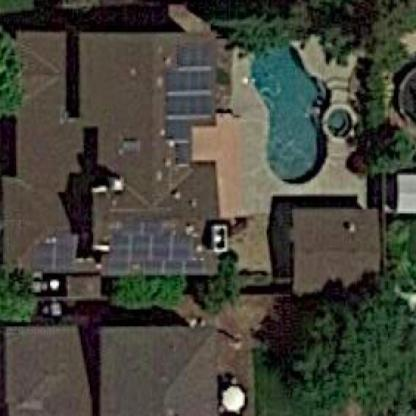solar_panel: (157, 34, 219, 163), (104, 211, 211, 285), (26, 224, 85, 276)
swimming_pool: (243, 33, 339, 194)
